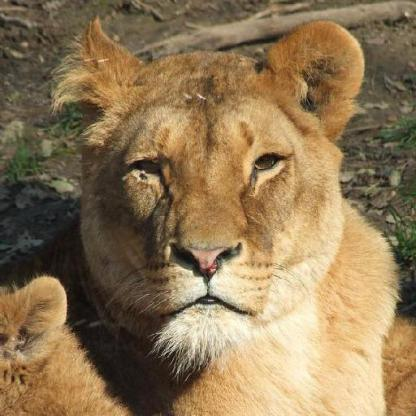lion: (78, 27, 358, 336)
